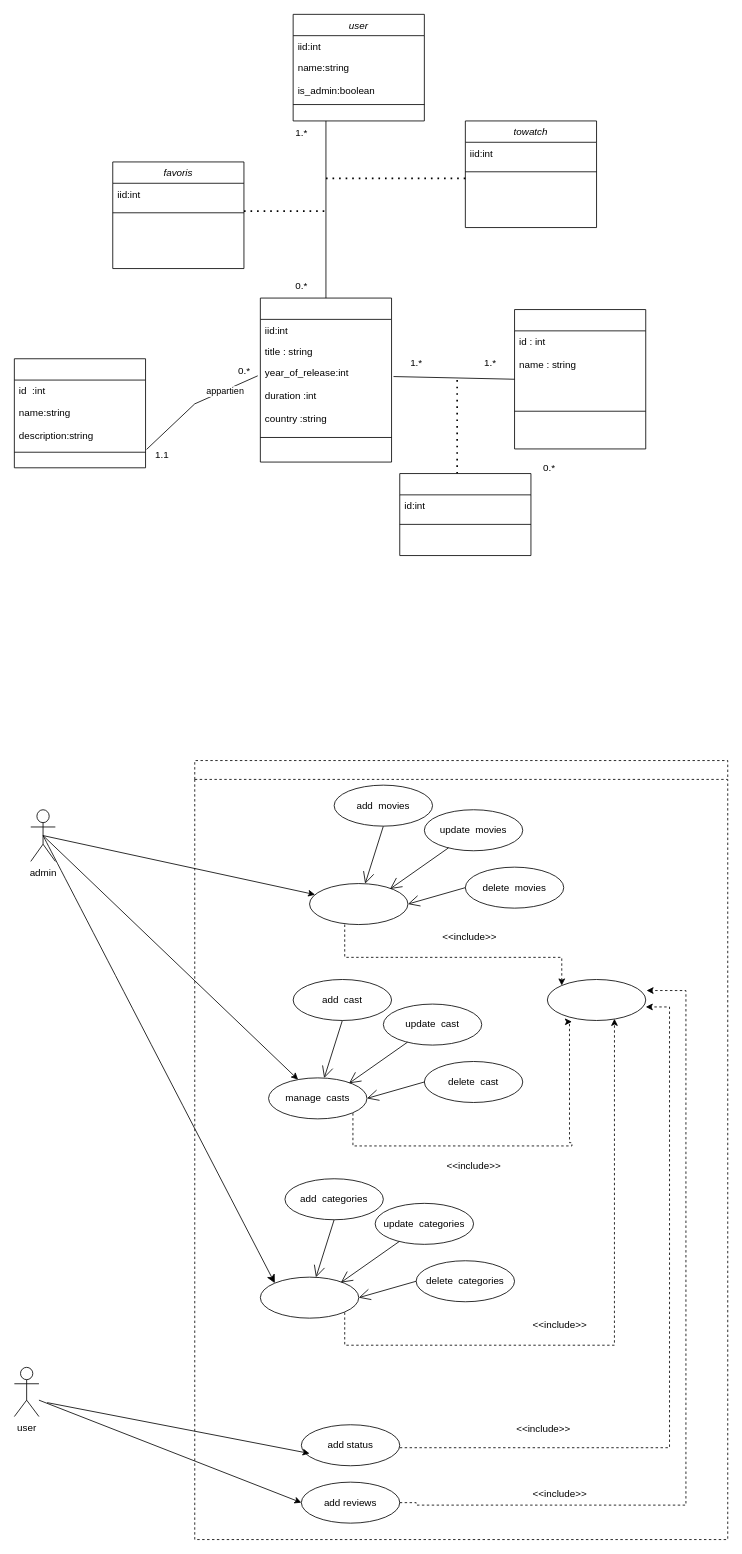
The diagram is 742 pixels wide and 1554 high, and some of its shapes have lost their labels. Each missing label, with the box of its shape:
authentification: (547, 979, 646, 1020)
cast: (514, 309, 646, 449)
categorie: (14, 358, 146, 468)
film_cast: (399, 473, 531, 556)
manage categories: (260, 1276, 359, 1318)
manage movies: (309, 883, 408, 925)
movie: (260, 297, 392, 462)
system de gestion de reservation de salles: (194, 760, 728, 1540)
